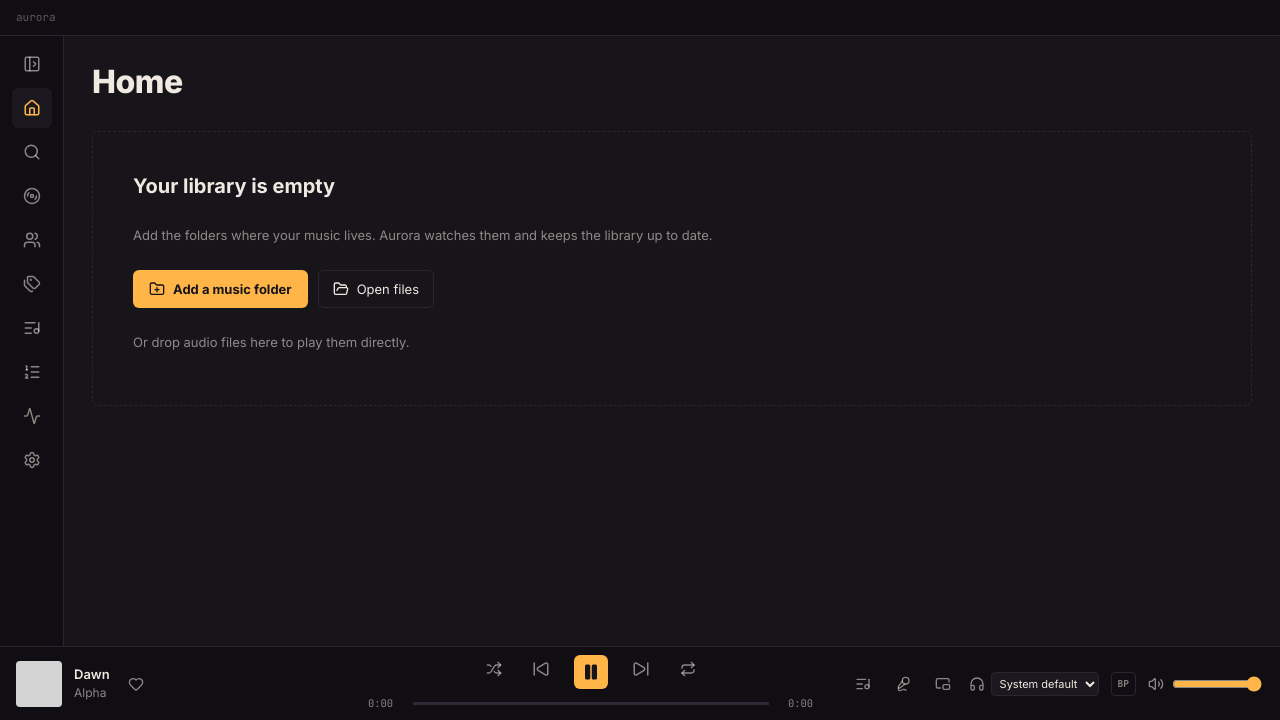
Scenario: PlayerBar (M2) › shows artwork, artist and the library actions for the current track
Check: the text "Alpha" is shown, box [74,684,110,702]
Click the button named "Add to playlist": (136, 684) [122,672,150,696]
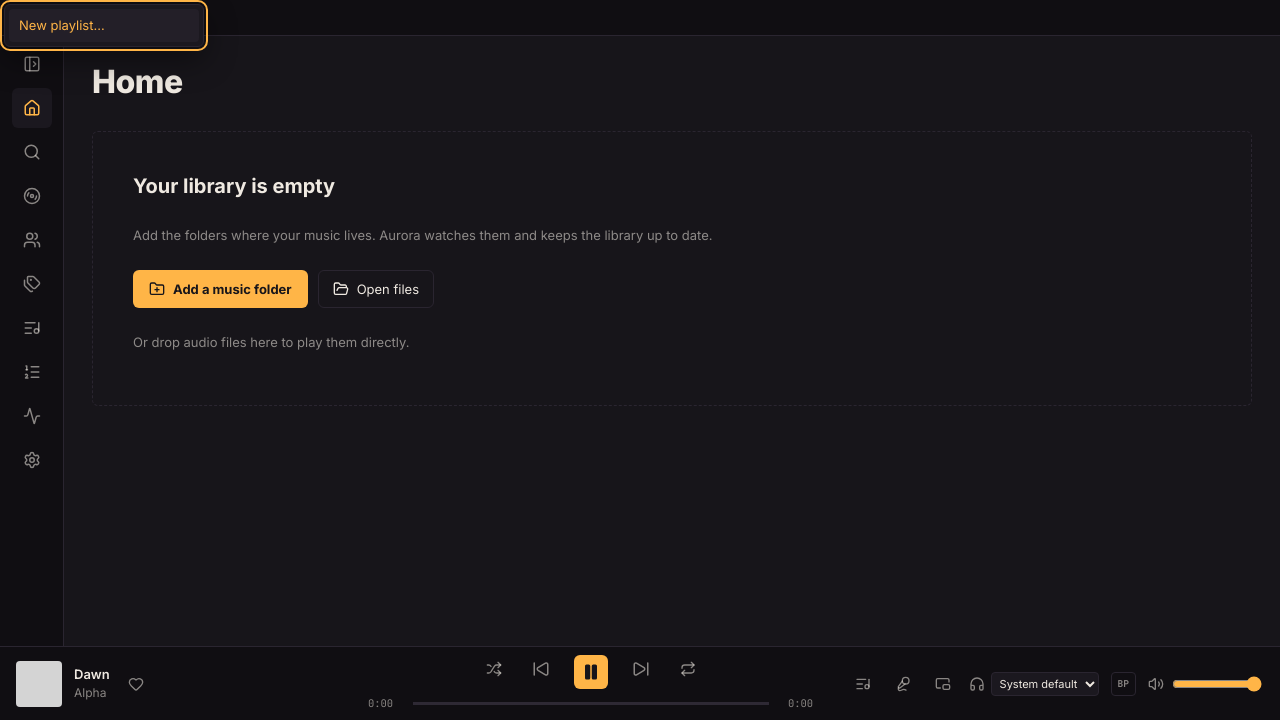
Check: the menu item "New playlist…" is shown, box [9,9,199,42]
